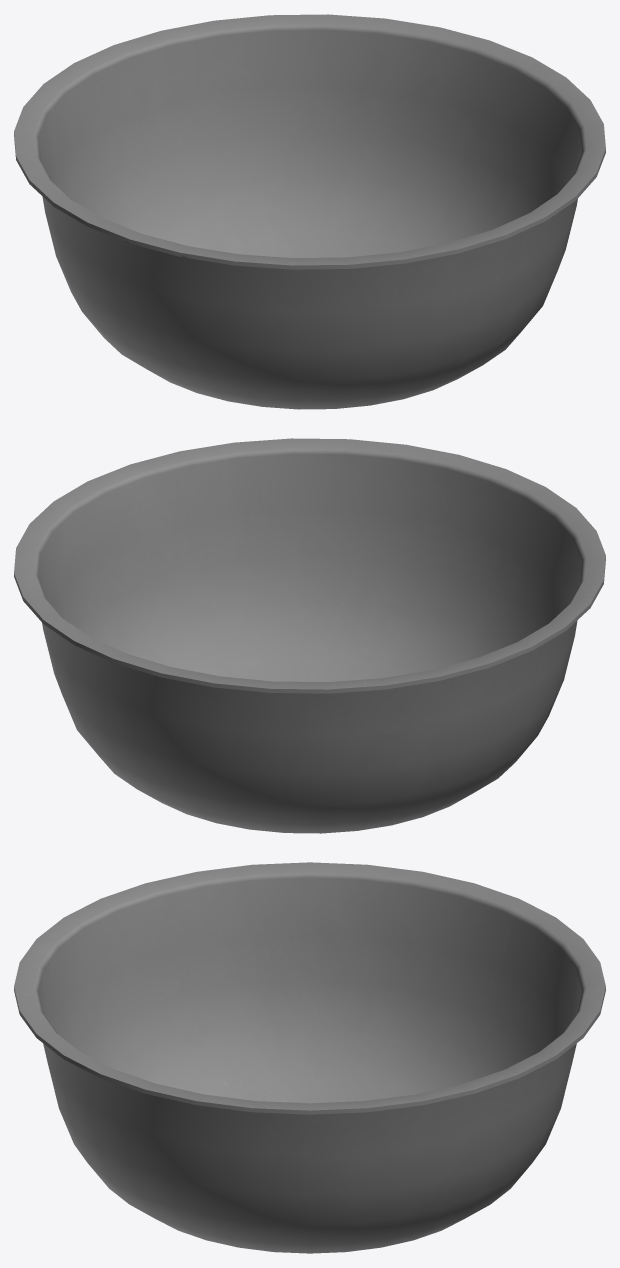
Rendered from Bowl_004.FBX.
The picture shows the model from 3 angles, top to bottom: view 1: azimuth 30°, elevation 25°; view 2: azimuth 150°, elevation 25°; view 3: azimuth 270°, elevation 25°; orthographic projection.
Parts seen in each view (by area): view 1: Bowl_004; view 2: Bowl_004; view 3: Bowl_004.
Boxes of the visible parts, x1,y1,x2,y2 form: Bowl_004: [14, 14, 605, 409]; Bowl_004: [14, 438, 605, 833]; Bowl_004: [14, 862, 605, 1253].
Size of the model in its own units: 18.95 by 7.48 by 19.1.
1 material, 1 textured.
